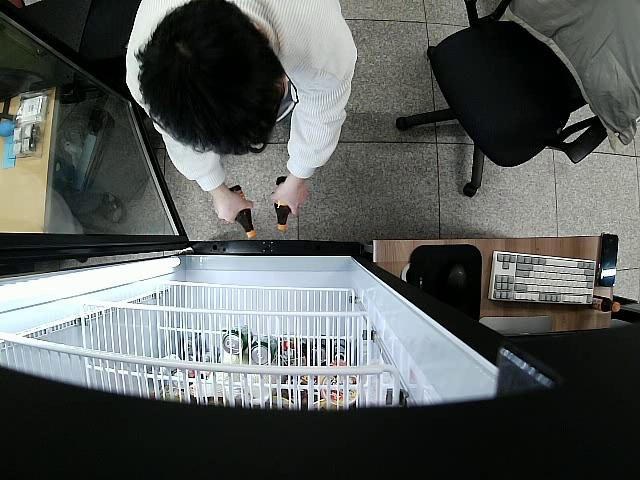00_hand: (212, 184, 253, 223), (269, 176, 310, 214)
17_vita500: (231, 184, 257, 238), (273, 174, 291, 232)
